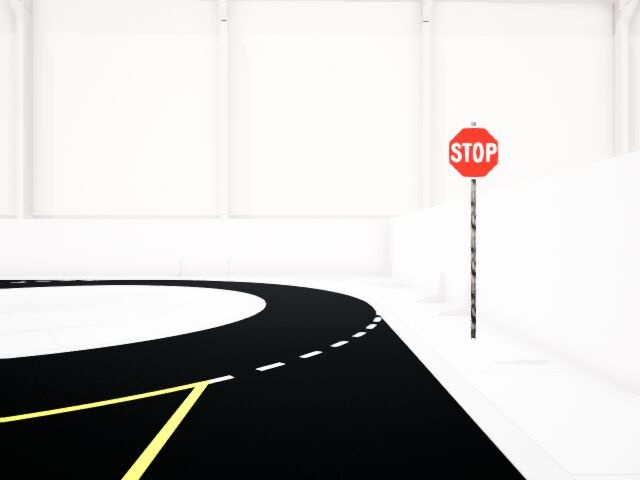stopsign: (449, 127, 499, 178)
